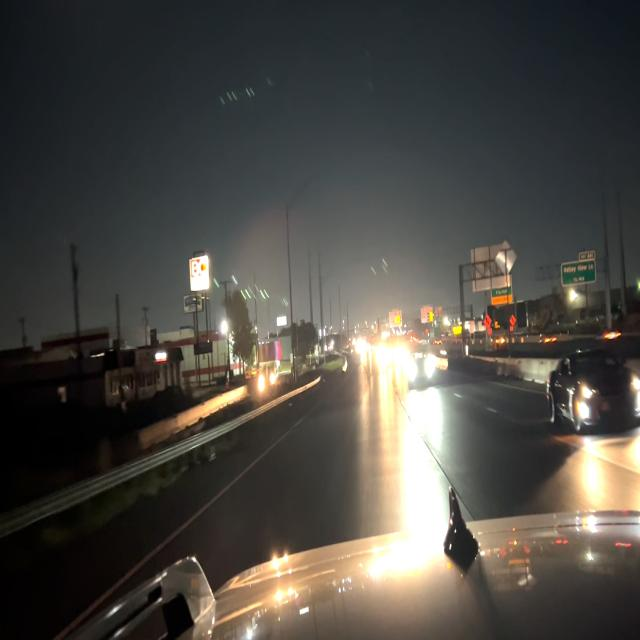back-of-sign: (468, 235, 515, 282)
